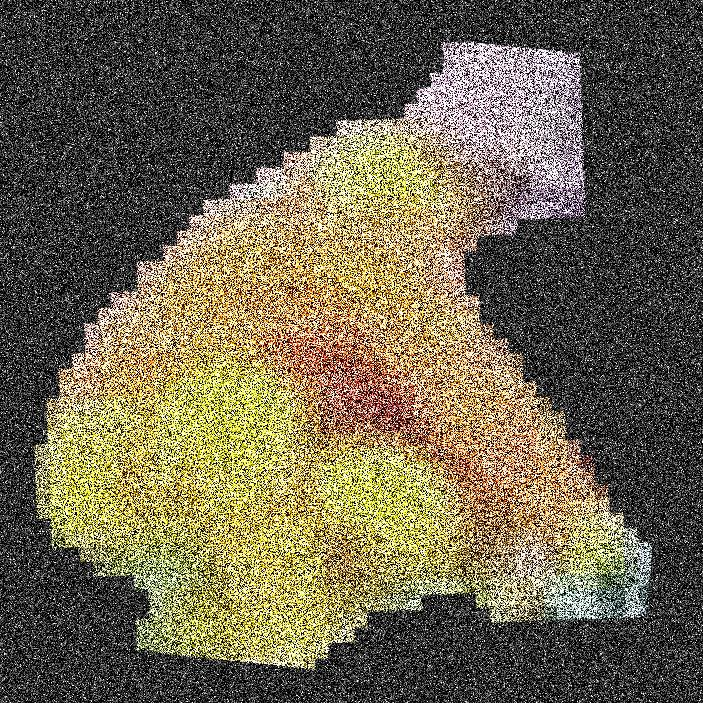Pessoa: (180, 0, 568, 702)
